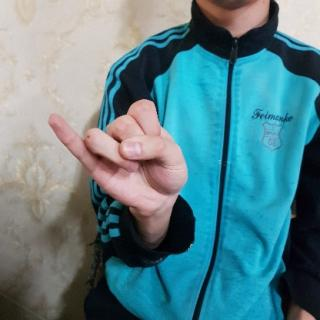MEEM: (44, 96, 195, 218)
